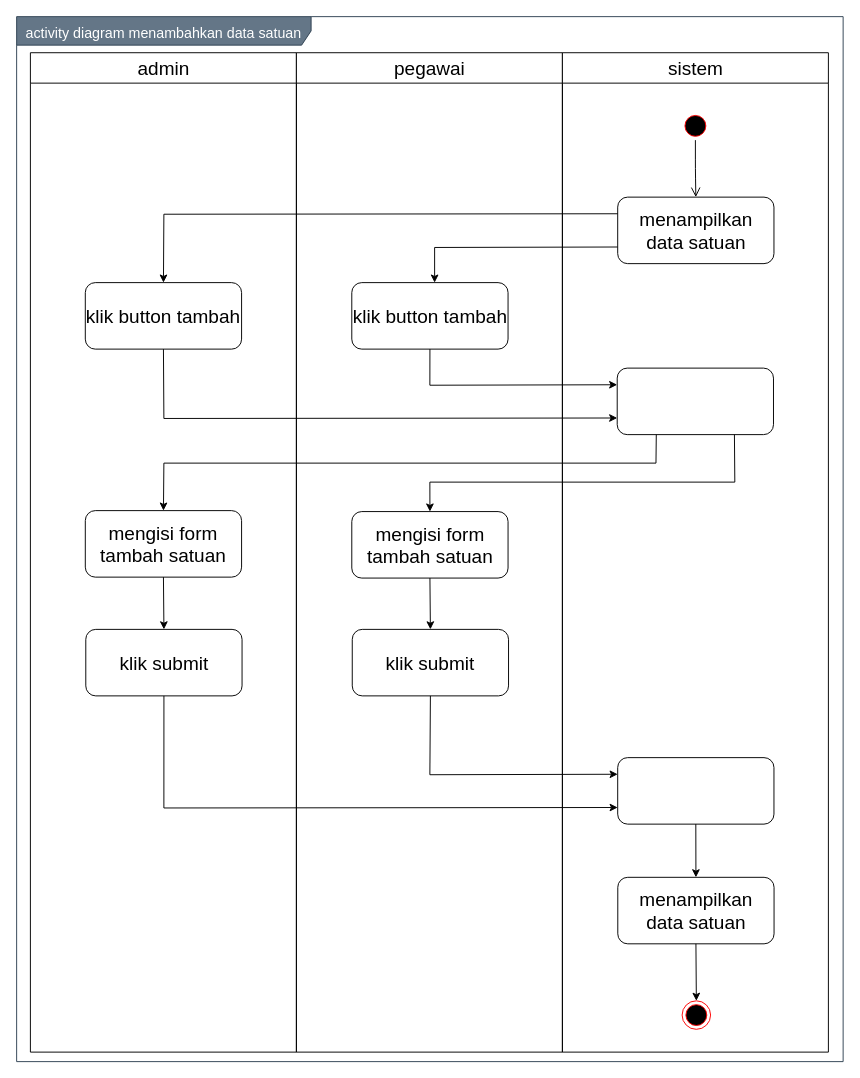
Image size: 860x1078. Some labels were removed from this diagram. Each missing label, with the centre of its shape:
"menampilkan form tambah satuan" goes at [694,401].
"menyimpan ke database" goes at [695,790].
